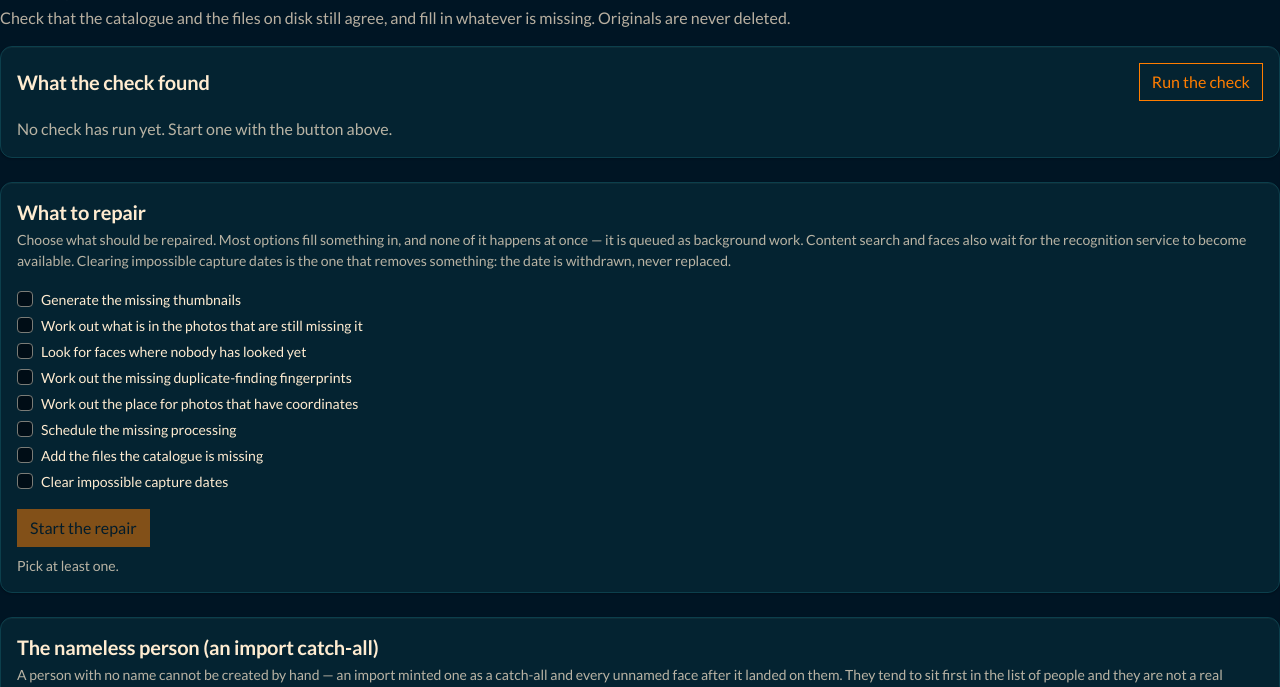
Test case: MaintenancePage › shows the failure instead of a zero and a green verdict when the store cannot be listed
The width and height of the screenshot is (1280, 687).
Click the button "Run the check": (1201, 82) top-left (1139, 63), bottom-right (1263, 101)
(page scrolled)
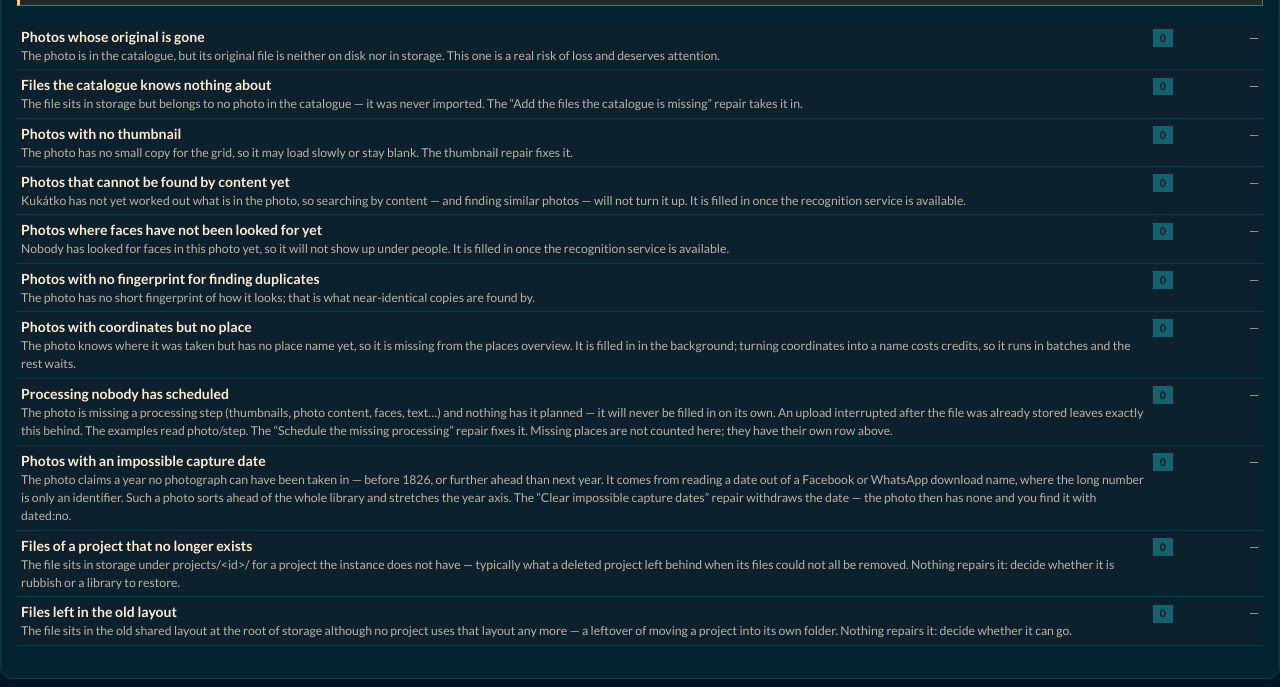
Expected: the table is shown
